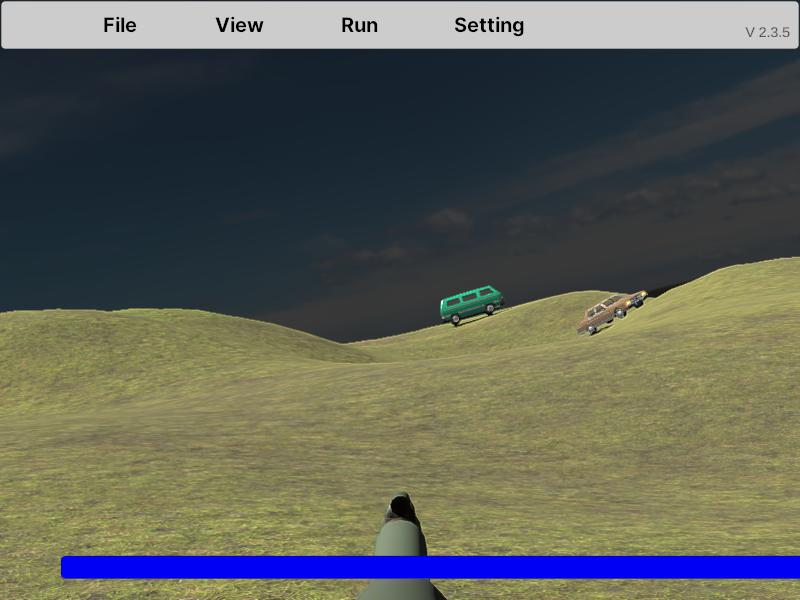car: (577, 293, 643, 335), (440, 285, 503, 327), (577, 297, 620, 336)
